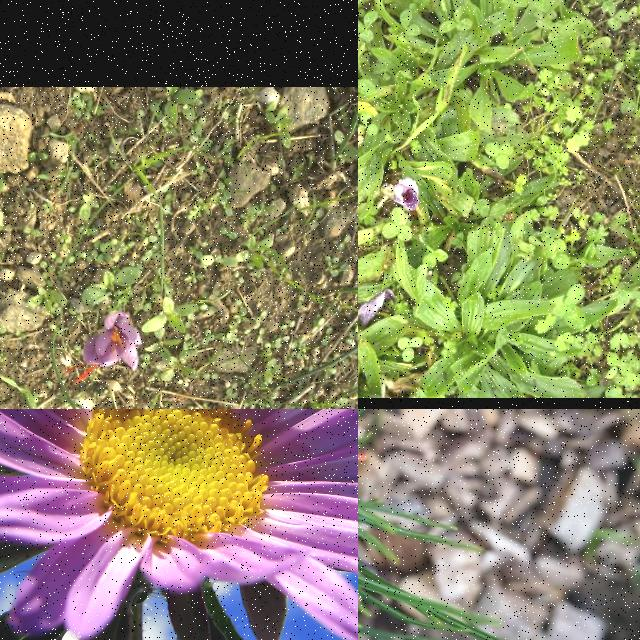flower: (66, 312, 144, 386), (394, 178, 421, 212)
